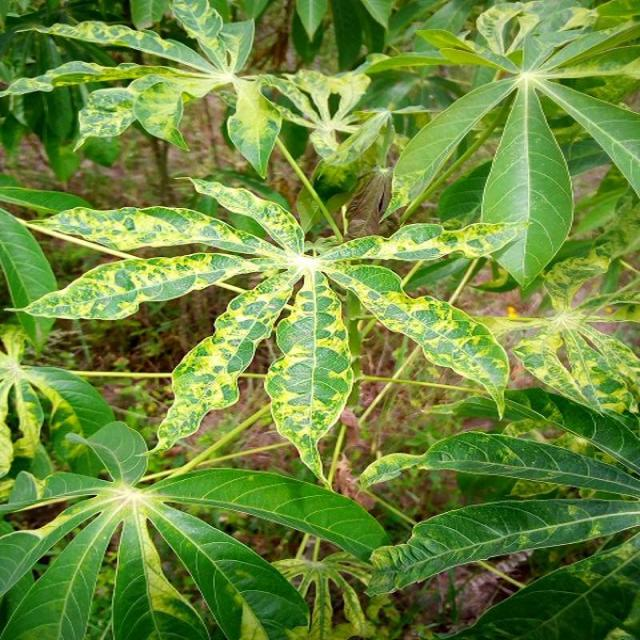cassava leaf: (10, 172, 519, 486), (386, 1, 638, 290), (478, 78, 574, 289)
